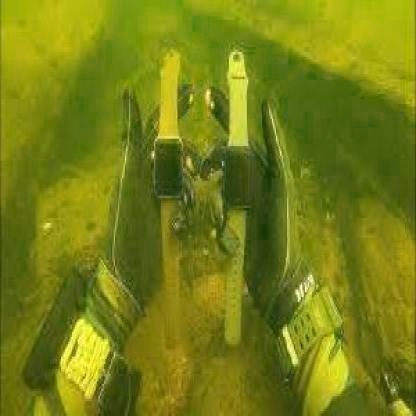electronics: (152, 50, 186, 354), (222, 49, 248, 346)
